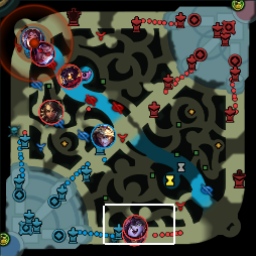draven: (121, 224, 144, 247)
ezreal: (91, 123, 115, 147)
irelia: (21, 28, 44, 49)
lulu: (123, 215, 148, 239)
nidalee: (38, 98, 63, 124)
vayne: (30, 41, 53, 66)
viktor: (57, 63, 81, 89)
